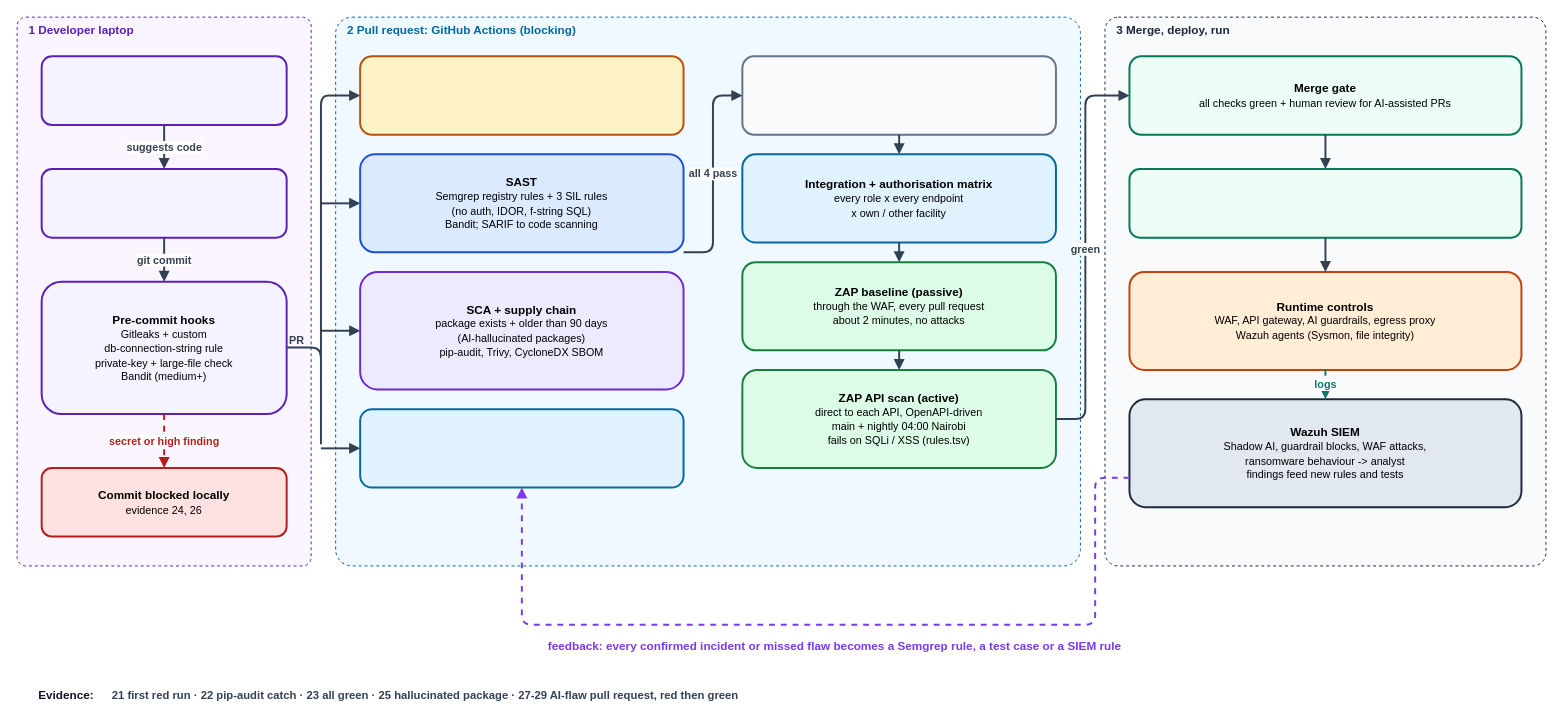
Some shapes in this 1563 by 719 pixel diagram are drawn without their labels. The shapes that lost their labels are listed below. From the top down, each one's centre as x and y in pixels, then its label:
(163,90): AI coding assistant Copilot / ChatGPT suggestions
(521,95): Secret scanning Gitleaks on the whole git history
(898,95): Ephemeral lab on the runner WAF + Kong + APIs + AI gateway + Squid
(163,203): Developer reviews + commits owns every AI-suggested line
(1325,203): Deploy same images that were scanned (SBOM kept)
(521,448): Unit tests token forgery, IDOR scoping, guardrails
